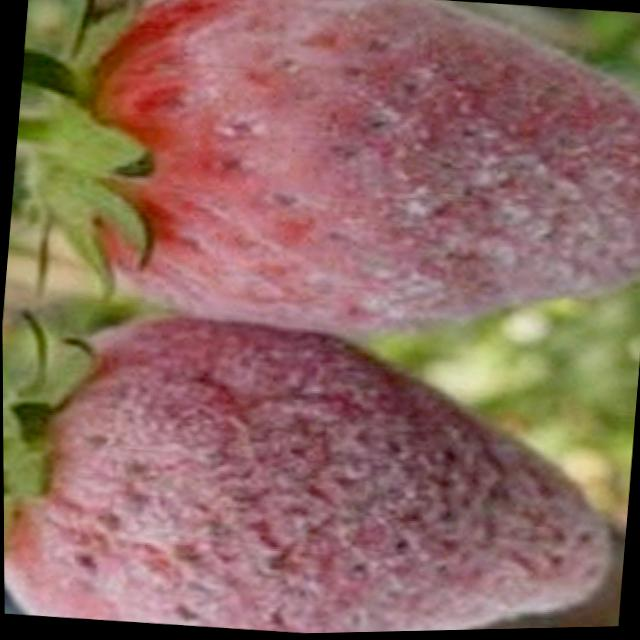Powdery Mildew Fruit: (44, 0, 640, 345), (3, 311, 608, 635)
